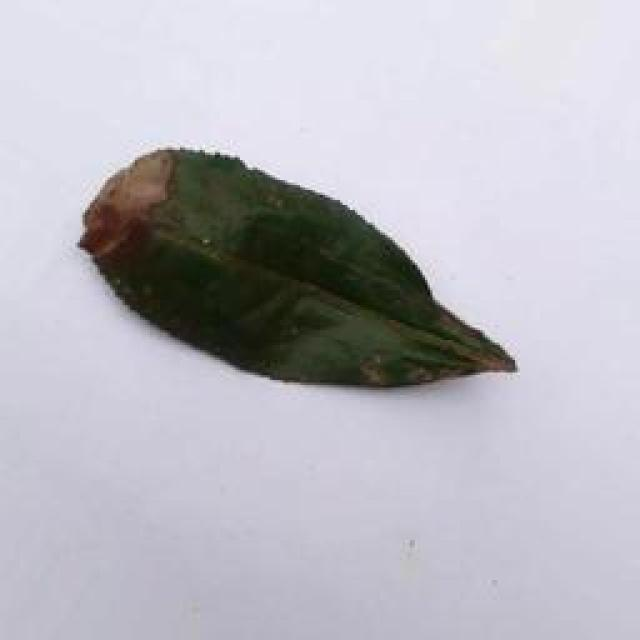Brown Blight: (72, 139, 526, 391)
